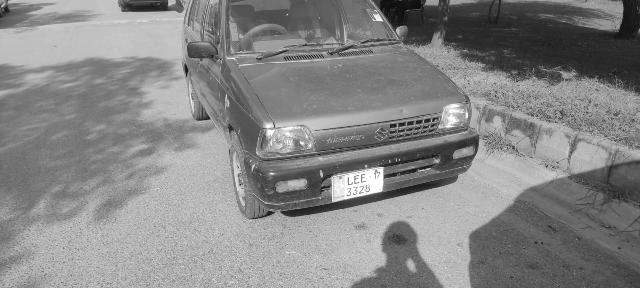Number: (346, 173, 371, 198)
